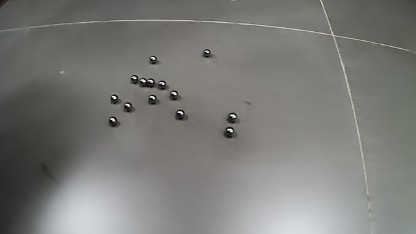ironball: (224, 126, 234, 138), (227, 112, 237, 123), (108, 116, 117, 126), (148, 94, 157, 104), (157, 80, 166, 90), (176, 109, 185, 119), (169, 90, 178, 100), (146, 78, 155, 87), (110, 94, 118, 104), (139, 77, 147, 87), (124, 102, 132, 111), (149, 55, 157, 64), (130, 74, 138, 83), (203, 48, 211, 57)
